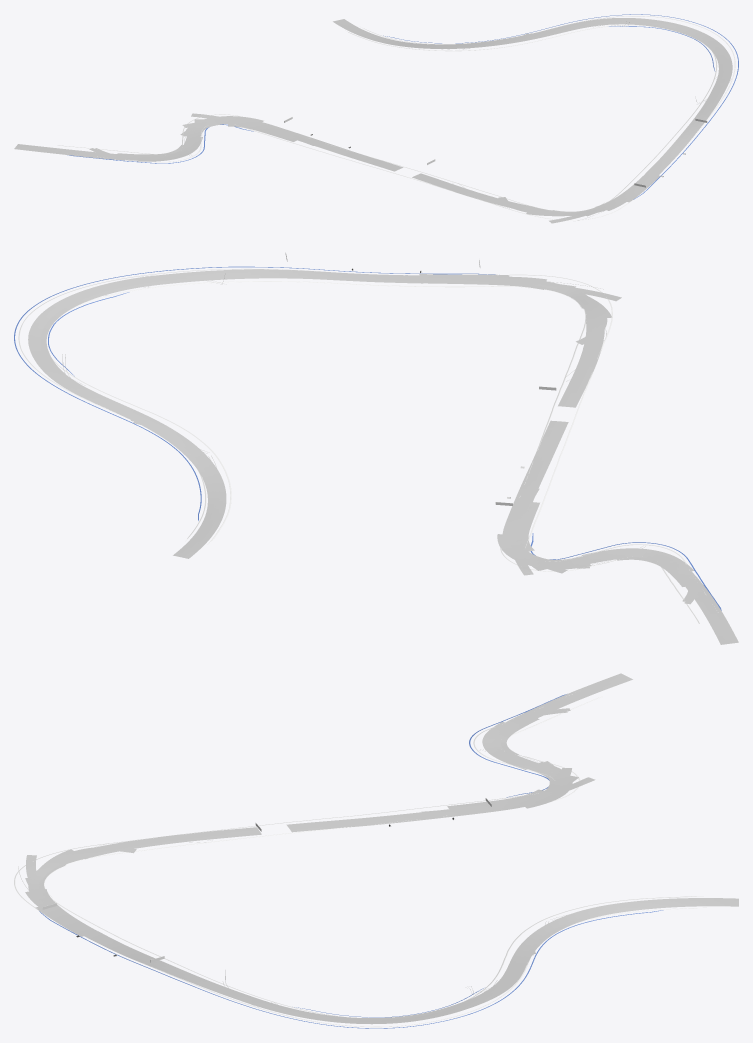
File: track_road_sector2_decals.dae
The picture shows the model from 3 angles, top to bottom: view 1: azimuth 30°, elevation 25°; view 2: azimuth 150°, elevation 25°; view 3: azimuth 270°, elevation 25°; orthographic projection. The views are drawn at different scales.
Visible parts, largest first — view 1: road_track_sector2_decals_a6000; view 2: road_track_sector2_decals_a6000; view 3: road_track_sector2_decals_a6000.
Part boxes in pixels (bbox=[...]): road_track_sector2_decals_a6000: bbox=[14, 14, 738, 223]; road_track_sector2_decals_a6000: bbox=[14, 252, 738, 644]; road_track_sector2_decals_a6000: bbox=[14, 673, 738, 1028].
Size of the model in its own units: 421 by 326 by 22.47.
